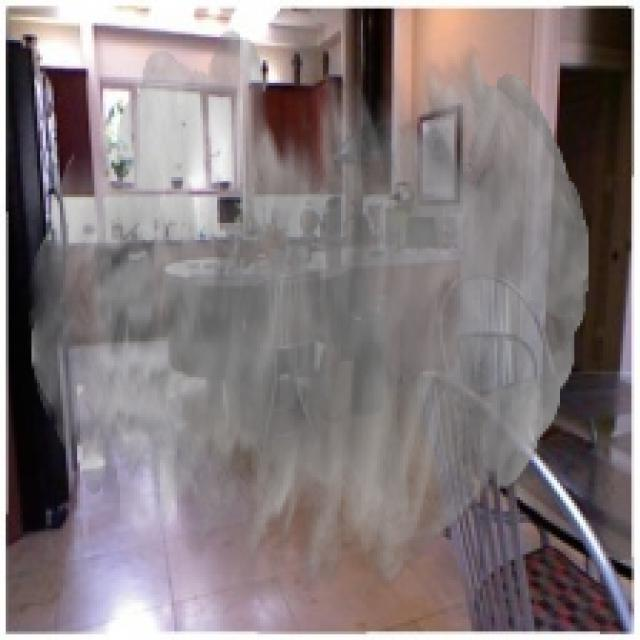smoke: (29, 29, 588, 592)
